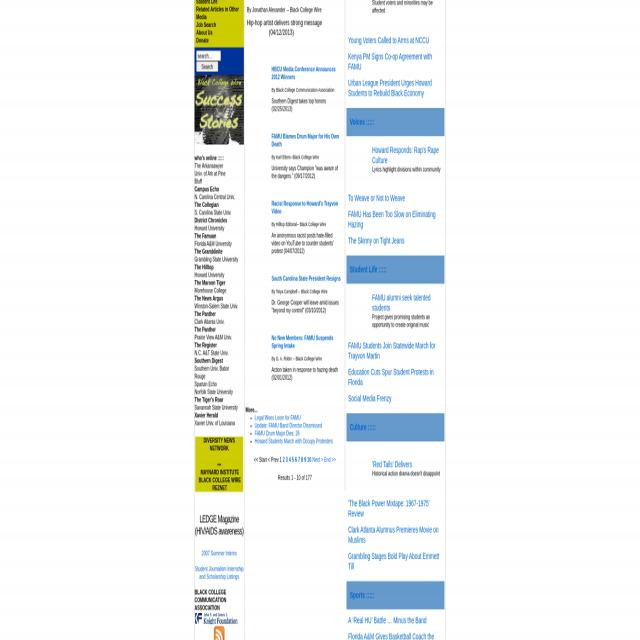button: (194, 75, 244, 145), (347, 581, 445, 609), (346, 109, 444, 136), (347, 257, 444, 283), (347, 415, 444, 441), (194, 612, 238, 624), (196, 61, 218, 72), (214, 626, 224, 640)
field: (196, 50, 221, 61)
